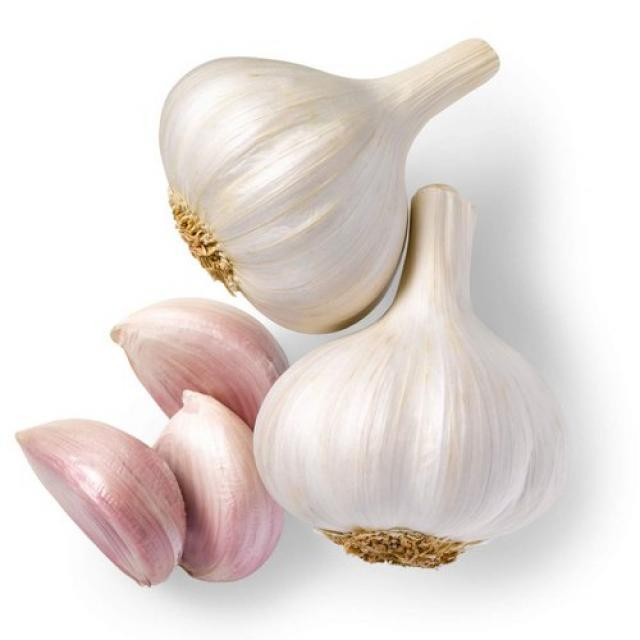garlic: (256, 191, 564, 564), (158, 40, 502, 336), (15, 415, 178, 585), (112, 294, 294, 442), (156, 386, 278, 584)
